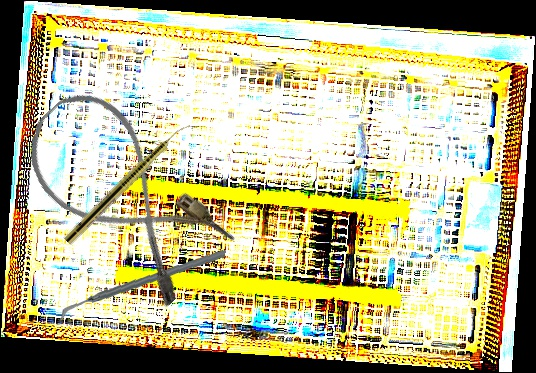Cannula: (6, 75, 241, 313)
Chopper: (59, 237, 226, 334)
Handpiece: (63, 118, 192, 247)
